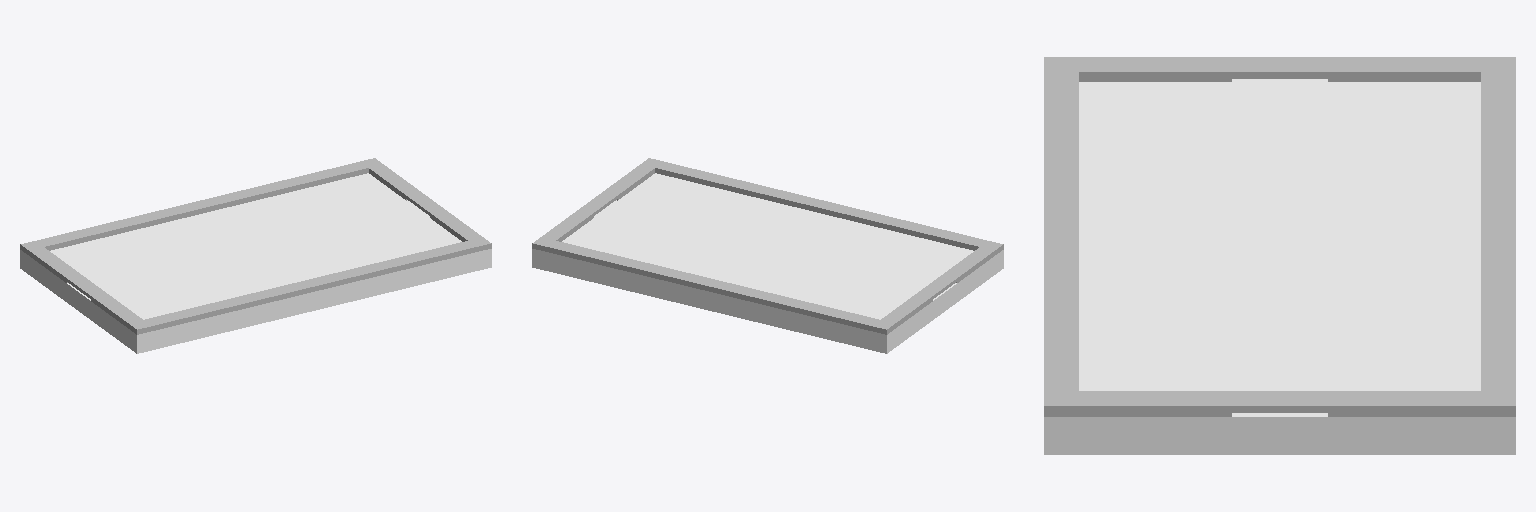
The robot description file, URDF, robot "table":
<?xml version="1.0" encoding="utf-8"?>
<robot name="table">
    <material name="grey">
        <color rgba="0.8 0.8 0.8 1"/>
    </material>
    <material name="white">
        <color rgba="1.0 1.0 1.0 1"/>
    </material>
    <material name="red">
        <color rgba="1.0 0.0 0.0 1"/>
    </material>

    <link name="world"/>

    <joint name="base_joint" type="fixed">
        <origin rpy="0.0 0.0 0.0" xyz="0.0 0.0 -0.055"/>
        <parent link="world"/>
        <child link="t_base"/>
    </joint>
    <link name="t_base">
        <inertial>
            <origin xyz="0 0 0.0" rpy="0 0 0"/>
            <mass value="1"/>
            <inertia ixx="1" ixy="0" ixz="0" iyy="1" iyz="0" izz="1"/>
        </inertial>
        <visual name="visual">
            <origin xyz="0 0 0.0" rpy="0 0 0"/>
            <geometry>
                <box size="2.14 1.22 0.11"/>
            </geometry>
            <material name="white"/>
        </visual>
        <collision name="collision">
            <origin xyz="0 0 0.0" rpy="0 0 0"/>
            <geometry>
                <box size="2.14 1.22 0.11"/>
            </geometry>
            <surface>
                <bounce>
                    <restitution_coefficient>1.0</restitution_coefficient>
                    <threshold>0</threshold>
                </bounce>
                <friction>
                    <ode>
                        <mu>0</mu>
                        <mu2>0</mu2>
                    </ode>
                </friction>
            </surface>
        </collision>
        <contact>
            <restitution value="1.0"/>
            <lateral_friction value="1.0"/>
            <rolling_friction value="0.0"/>
            <spinning_friction value="0.0"/>
        </contact>
    </link>

    <joint name="base_down_rim_l" type="fixed">
        <origin rpy="0.0 0.0 0.0" xyz="1.025 0.3225 0.060"/>
        <parent link="t_base"/>
        <child link="t_down_rim_l"/>
    </joint>
    <link name="t_down_rim_l">
        <inertial>
            <mass value="1.0"/>
            <inertia ixx="1" ixy="0" ixz="0" iyy="1" iyz="0" izz="1"/>
        </inertial>
        <visual name="visual">
            <geometry>
                <box size="0.09 0.395 0.01"/>
            </geometry>
            <material name="grey"/>
        </visual>
        <collision name="collision">
            <origin xyz="0.0 0.0 0.0"/>
            <geometry>
                <box size="0.09 0.395 0.11"/>
            </geometry>
            <surface>
                <bounce>
                    <restitution_coefficient>1.0</restitution_coefficient>
                    <threshold>0</threshold>
                </bounce>
                <friction>
                    <ode>
                        <mu>0</mu>
                        <mu2>0</mu2>
                    </ode>
                </friction>
            </surface>
        </collision>
        <contact>
            <restitution value="1.0"/>
            <lateral_friction value="0.0"/>
            <rolling_friction value="0.0"/>
            <spinning_friction value="0.0"/>
        </contact>
    </link>

    <joint name="base_down_rim_r" type="fixed">
        <origin rpy="0.0 0.0 0.0" xyz="1.025 -0.3225 0.060"/>
        <parent link="t_base"/>
        <child link="t_down_rim_r"/>
    </joint>
    <link name="t_down_rim_r">
        <inertial>
            <mass value="1.0"/>
            <inertia ixx="1" ixy="0" ixz="0" iyy="1" iyz="0" izz="1"/>
        </inertial>
        <visual name="visual">
            <geometry>
                <box size="0.09 0.395 0.01"/>
            </geometry>
            <material name="grey"/>
        </visual>
        <collision name="collision">
            <origin xyz="0.0 0.0 0.0"/>
            <geometry>
                <box size="0.09 0.395 0.11"/>
            </geometry>
            <surface>
                <bounce>
                    <restitution_coefficient>1.0</restitution_coefficient>
                    <threshold>0</threshold>
                </bounce>
                <friction>
                    <ode>
                        <mu>0</mu>
                        <mu2>0</mu2>
                    </ode>
                </friction>
            </surface>
        </collision>
        <contact>
            <restitution value="1.0"/>
            <lateral_friction value="0.0"/>
            <rolling_friction value="0.0"/>
            <spinning_friction value="0.0"/>
        </contact>
    </link>

    <joint name="base_down_rim_top" type="fixed">
        <origin rpy="0.0 0.0 0.0" xyz="1.025 0 0.075"/>
        <parent link="t_base"/>
        <child link="t_down_rim_top"/>
    </joint>
    <link name="t_down_rim_top">
        <inertial>
            <mass value="1.0"/>
            <inertia ixx="1" ixy="0" ixz="0" iyy="1" iyz="0" izz="1"/>
        </inertial>
        <visual name="visual">
            <geometry>
                <box size="0.09 1.04 0.02"/>
            </geometry>
            <material name="grey"/>
        </visual>
        <collision name="collision">
            <geometry>
                <box size="0.09 1.04 0.02"/>
            </geometry>
            <surface>
                <bounce>
                    <restitution_coefficient>1.0</restitution_coefficient>
                    <threshold>0</threshold>
                </bounce>
                <friction>
                    <ode>
                        <mu>0</mu>
                        <mu2>0</mu2>
                    </ode>
                </friction>
            </surface>
        </collision>
        <contact>
            <restitution value="1.0"/>
            <lateral_friction value="0.0"/>
            <rolling_friction value="0.0"/>
            <spinning_friction value="0.0"/>
        </contact>
    </link>

    <joint name="base_up_rim_l" type="fixed">
        <origin rpy="0.0 0.0 0.0" xyz="-1.025 0.3225 0.060"/>
        <parent link="t_base"/>
        <child link="t_up_rim_l"/>
    </joint>
    <link name="t_up_rim_l">
        <inertial>
            <mass value="1.0"/>
            <inertia ixx="1" ixy="0" ixz="0" iyy="1" iyz="0" izz="1"/>
        </inertial>
        <visual name="visual">
            <geometry>
                <box size="0.09 0.395 0.01"/>
            </geometry>
            <material name="grey"/>
        </visual>
        <collision name="collision">
            <origin xyz="0.0 0.0 0.0"/>
            <geometry>
                <box size="0.09 0.395 0.11"/>
            </geometry>
            <surface>
                <bounce>
                    <restitution_coefficient>1.0</restitution_coefficient>
                    <threshold>0</threshold>
                </bounce>
                <friction>
                    <ode>
                        <mu>0</mu>
                        <mu2>0</mu2>
                    </ode>
                </friction>
            </surface>
        </collision>
        <contact>
            <restitution value="1.0"/>
            <lateral_friction value="0.0"/>
            <rolling_friction value="0.0"/>
            <spinning_friction value="0.0"/>
        </contact>
    </link>

    <joint name="base_up_rim_r" type="fixed">
        <origin rpy="0.0 0.0 0.0" xyz="-1.025 -0.3225 0.060"/>
        <parent link="t_base"/>
        <child link="t_up_rim_r"/>
    </joint>
    <link name="t_up_rim_r">
        <inertial>
            <mass value="1.0"/>
            <inertia ixx="1" ixy="0" ixz="0" iyy="1" iyz="0" izz="1"/>
        </inertial>
        <visual name="visual">
            <geometry>
                <box size="0.09 0.395 0.01"/>
            </geometry>
            <material name="grey"/>
        </visual>
        <collision name="collision">
            <origin xyz="0.0 0.0 0.0"/>
            <geometry>
                <box size="0.09 0.395 0.11"/>
            </geometry>
            <surface>
                <bounce>
                    <restitution_coefficient>1.0</restitution_coefficient>
                    <threshold>0</threshold>
                </bounce>
                <friction>
                    <ode>
                        <mu>0</mu>
                        <mu2>0</mu2>
                    </ode>
                </friction>
            </surface>
        </collision>
        <contact>
            <restitution value="1.0"/>
            <lateral_friction value="0.0"/>
            <rolling_friction value="0.0"/>
            <spinning_friction value="0.0"/>
        </contact>
    </link>

    <joint name="base_up_rim_top" type="fixed">
        <origin rpy="0.0 0.0 0.0" xyz="-1.025 0 0.075"/>
        <parent link="t_base"/>
        <child link="t_up_rim_top"/>
    </joint>
    <link name="t_up_rim_top">
        <inertial>
            <mass value="1.0"/>
            <inertia ixx="1" ixy="0" ixz="0" iyy="1" iyz="0" izz="1"/>
        </inertial>
        <visual name="visual">
            <geometry>
                <box size="0.09 1.04 0.02"/>
            </geometry>
            <material name="grey"/>
        </visual>
        <collision name="collision">
            <geometry>
                <box size="0.09 1.04 0.02"/>
            </geometry>
            <surface>
                <bounce>
                    <restitution_coefficient>1.0</restitution_coefficient>
                    <threshold>0</threshold>
                </bounce>
                <friction>
                    <ode>
                        <mu>0</mu>
                        <mu2>0</mu2>
                    </ode>
                </friction>
            </surface>
        </collision>
        <contact>
            <restitution value="1.0"/>
            <lateral_friction value="0.0"/>
            <rolling_friction value="0.0"/>
            <spinning_friction value="0.0"/>
        </contact>
    </link>

    <joint name="base_left_rim" type="fixed">
        <origin rpy="0.0 0.0 0.0" xyz="0.0 0.565 0.070"/>
        <parent link="t_base"/>
        <child link="t_left_rim"/>
    </joint>
    <link name="t_left_rim">
        <inertial>
            <mass value="1.0"/>
            <inertia ixx="1" ixy="0" ixz="0" iyy="1" iyz="0" izz="1"/>
        </inertial>
        <visual name="visual">
            <geometry>
                <box size="2.14 0.09 0.03"/>
            </geometry>
            <material name="grey"/>
        </visual>
        <collision name="collision">
            <origin xyz="0.0 0.0 0.0"/>
            <geometry>
                <box size="2.14 0.09 0.0.13"/>
            </geometry>
            <surface>
                <bounce>
                    <restitution_coefficient>1.0</restitution_coefficient>
                    <threshold>0</threshold>
                </bounce>
                <friction>
                    <ode>
                        <mu>0</mu>
                        <mu2>0</mu2>
                    </ode>
                </friction>
            </surface>
        </collision>
        <contact>
            <restitution value="1.0"/>
            <lateral_friction value="0.0"/>
            <rolling_friction value="0.0"/>
            <spinning_friction value="0.0"/>
        </contact>
    </link>

    <joint name="base_right_rim" type="fixed">
        <origin rpy="0.0 0.0 0.0" xyz="0.0 -0.565 0.070"/>
        <parent link="t_base"/>
        <child link="t_right_rim"/>
    </joint>
    <link name="t_right_rim">
        <inertial>
            <mass value="1.0"/>
            <inertia ixx="1" ixy="0" ixz="0" iyy="1" iyz="0" izz="1"/>
        </inertial>
        <visual name="visual">
            <geometry>
                <box size="2.14 0.09 0.03"/>
            </geometry>
            <material name="grey"/>
        </visual>
        <collision name="collision">
            <origin xyz="0.0 0.0 0.0"/>
            <geometry>
                <box size="2.14 0.09 0.13"/>
            </geometry>
            <surface>
                <bounce>
                    <restitution_coefficient>1.0</restitution_coefficient>
                    <threshold>0</threshold>
                </bounce>
                <friction>
                    <ode>
                        <mu>0</mu>
                        <mu2>0</mu2>
                    </ode>
                </friction>
            </surface>
        </collision>
        <contact>
            <restitution value="1.0"/>
            <lateral_friction value="0.0"/>
            <rolling_friction value="0.0"/>
            <spinning_friction value="0.0"/>
        </contact>
    </link>

    <static>1</static>
</robot>

--- Facts derived from the render (not from the file) ---
The picture shows the robot from 3 angles, left to right: view 1: azimuth 30°, elevation 25°; view 2: azimuth 150°, elevation 25°; view 3: azimuth 270°, elevation 25°; orthographic projection.
Model table with 10 links and 9 joints (9 fixed), rooted at world, posed every joint at zero.
Visible links, largest first — view 1: t_base, t_right_rim, t_left_rim, t_up_rim_top, t_down_rim_top; view 2: t_base, t_left_rim, t_right_rim, t_up_rim_top, t_down_rim_top; view 3: t_base, t_left_rim, t_right_rim, t_down_rim_top, t_up_rim_top, t_down_rim_l, t_down_rim_r.
Link boxes in pixels (left/top/right/bottom): t_base: left=20, top=173, right=491, bottom=353; t_right_rim: left=129, top=237, right=491, bottom=334; t_left_rim: left=20, top=158, right=381, bottom=254; t_up_rim_top: left=29, top=247, right=142, bottom=326; t_down_rim_top: left=369, top=164, right=481, bottom=241; t_base: left=532, top=173, right=1003, bottom=353; t_left_rim: left=532, top=237, right=894, bottom=334; t_right_rim: left=642, top=158, right=1003, bottom=254; t_up_rim_top: left=881, top=247, right=994, bottom=326; t_down_rim_top: left=542, top=164, right=654, bottom=241; t_base: left=1044, top=79, right=1515, bottom=454; t_left_rim: left=1481, top=57, right=1515, bottom=416; t_right_rim: left=1044, top=57, right=1078, bottom=416; t_down_rim_top: left=1079, top=391, right=1480, bottom=412; t_up_rim_top: left=1079, top=57, right=1480, bottom=78; t_down_rim_l: left=1328, top=413, right=1480, bottom=416; t_down_rim_r: left=1079, top=413, right=1231, bottom=416.
Size in the robot's own frame: 2.14 by 1.22 by 0.14 metres.
Geometry: primitives only (box / cylinder / sphere), no mesh files.